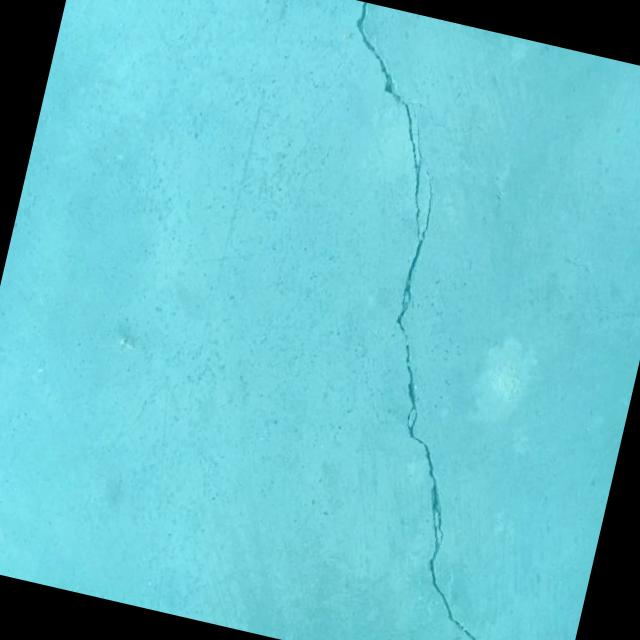crack: (216, 1, 622, 640), (365, 602, 440, 640)
